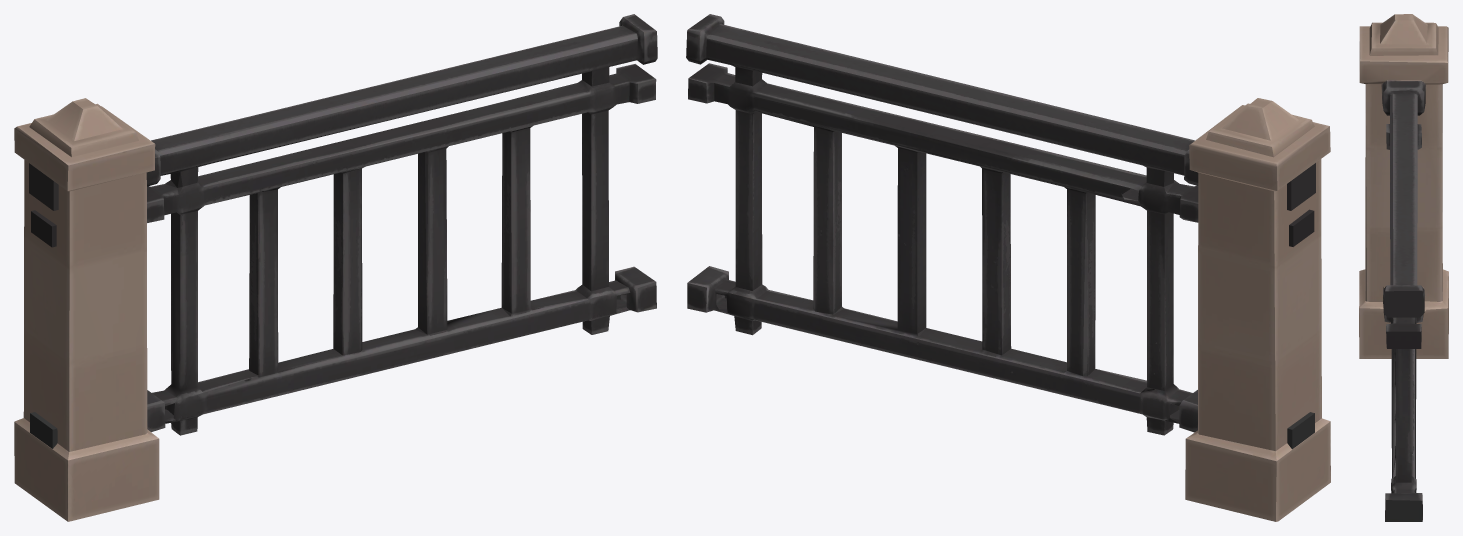
File: railing.glb
3 views of the same model, side by side, from view 1: azimuth 30°, elevation 25°; view 2: azimuth 150°, elevation 25°; view 3: azimuth 270°, elevation 25° (orthographic). The views are drawn at different scales.
Visible parts, largest first — view 1: body; view 2: body; view 3: body.
Part boxes in pixels (box(x1,y1,x2,y2)): body: box(14, 14, 657, 521); body: box(686, 14, 1330, 521); body: box(1359, 14, 1448, 521).
Bounding box in the file's own units: 2 × 1.23 × 0.3094.
Materials: 1 (1 with a texture image).
